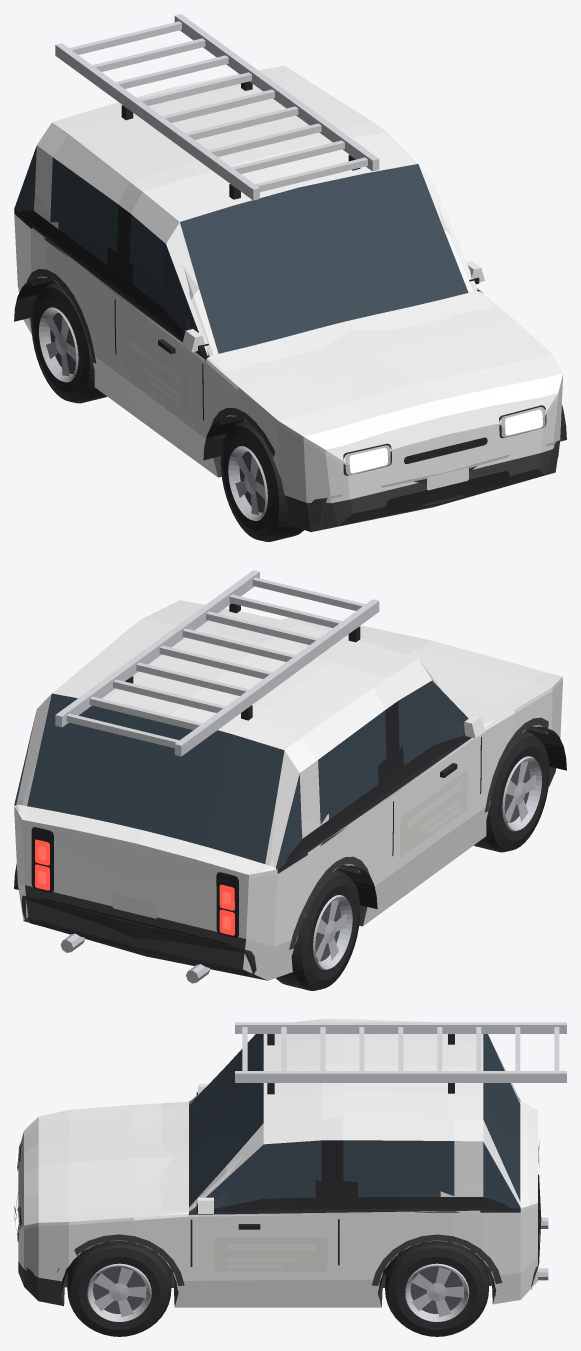
The model's file is furgao.glb.
3 renders of one model, top to bottom at view 1: azimuth 30°, elevation 25°; view 2: azimuth 150°, elevation 25°; view 3: azimuth 270°, elevation 25°, orthographic. The views are drawn at different scales.
Parts seen in each view (by area): view 1: body.001, glass.001, glass, ladder, body, details, wheel_fr, wheel_rr, lamp_head, wheel_wells.001; view 2: body.001, glass.001, ladder, glass, body, details, wheel_rr, wheel_fr, lamp_tail, wheel_wells.001, lamp_tail.001; view 3: body.001, glass.001, body, ladder, details, glass, wheel_fl, wheel_rl, wheel_wells, wheel_wells.001.
Boxes of the visible parts, x1,y1,x2,y2 form: body.001: (14,65,562,531); glass.001: (14,146,443,358); glass: (24,195,479,358); ladder: (55,14,379,200); body: (17,129,500,464); details: (27,228,559,525); wheel_fr: (220,420,303,541); wheel_rr: (31,282,106,403); lamp_head: (343,405,546,475); wheel_wells.001: (14,277,564,460); body.001: (14,600,562,980); glass.001: (14,680,468,869); ladder: (55,570,379,756); glass: (17,720,464,867); body: (15,673,494,955); details: (21,715,548,983); wheel_rr: (276,869,360,990); wheel_fr: (474,731,549,852); lamp_tail: (31,827,238,937); wheel_wells.001: (16,726,566,909); lamp_tail.001: (35,839,234,935); body.001: (18,1019,537,1307); glass.001: (191,1034,520,1211); body: (64,1070,536,1289); ladder: (235,1022,566,1094); details: (14,1083,548,1292); glass: (189,1057,520,1213); wheel_fl: (67,1244,171,1336); wheel_rl: (385,1244,488,1336); wheel_wells: (60,1240,495,1296); wheel_wells.001: (61,1244,495,1294).
Bounding box in the file's own units: 1.97 × 1.8 × 3.83.
